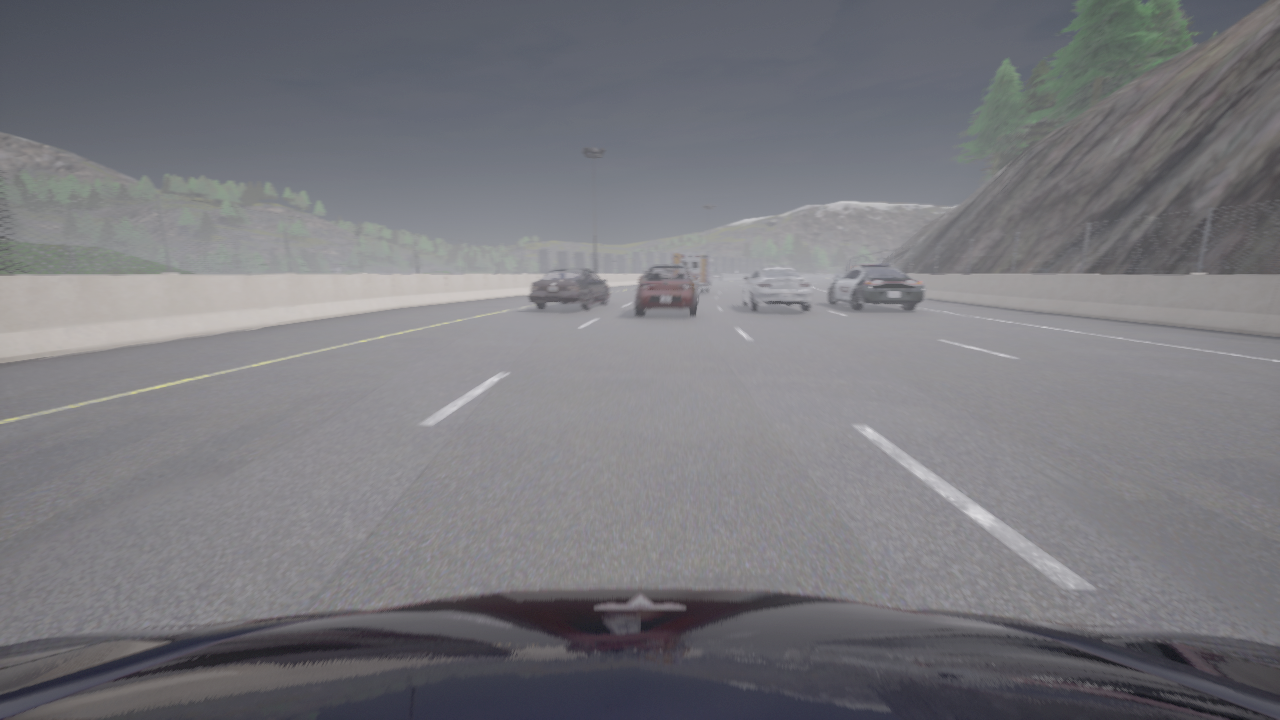cyclist: (0, 588, 1279, 719), (827, 264, 925, 310), (527, 268, 609, 309), (635, 264, 697, 316), (742, 266, 810, 311), (671, 252, 715, 292), (639, 270, 646, 280)
